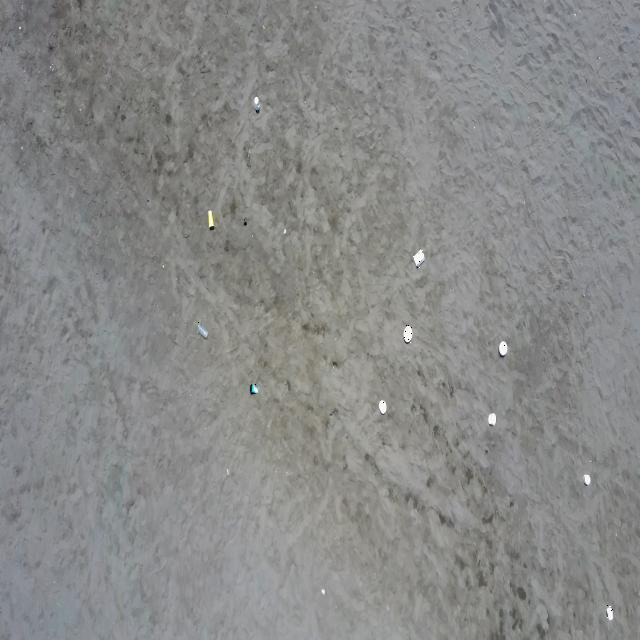take-away-containers: (413, 248, 425, 268), (404, 325, 412, 343), (499, 341, 507, 356), (488, 412, 496, 427), (378, 400, 386, 414), (583, 474, 590, 485)
takeaway-cup: (198, 322, 208, 340), (208, 209, 214, 230), (249, 383, 259, 395), (606, 605, 613, 621), (253, 96, 260, 112)
